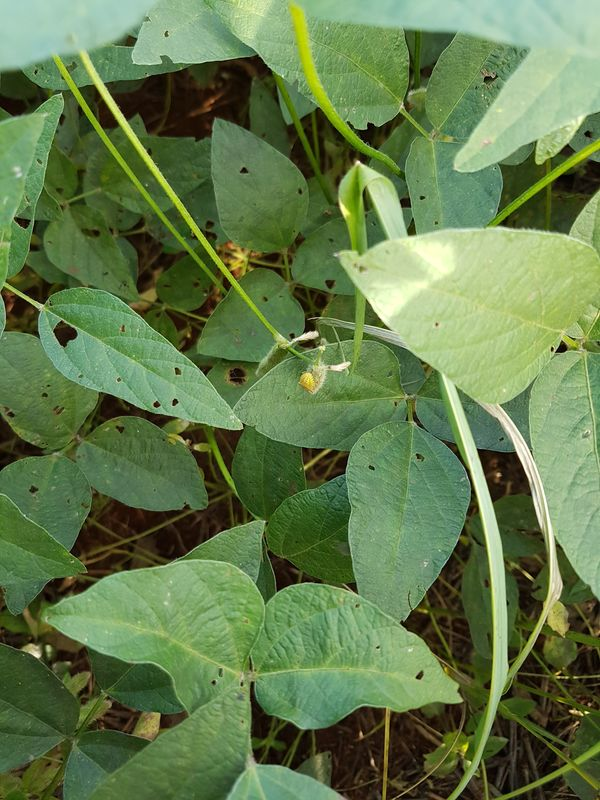Euschistus_heros_ninfa: (293, 368, 322, 398)
